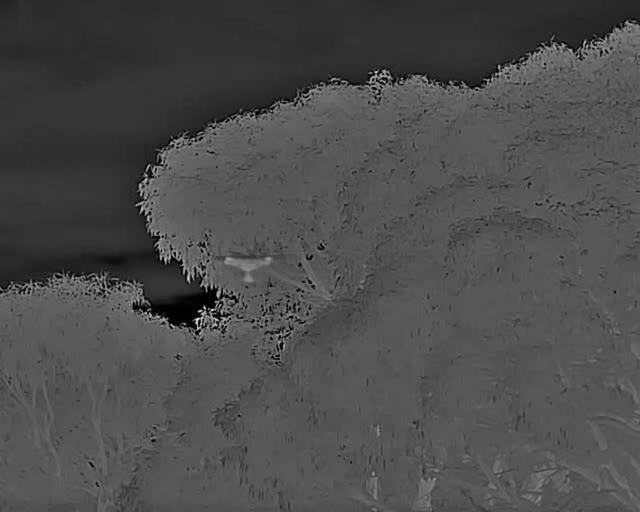DJI-Phantom: (225, 257, 278, 286)
